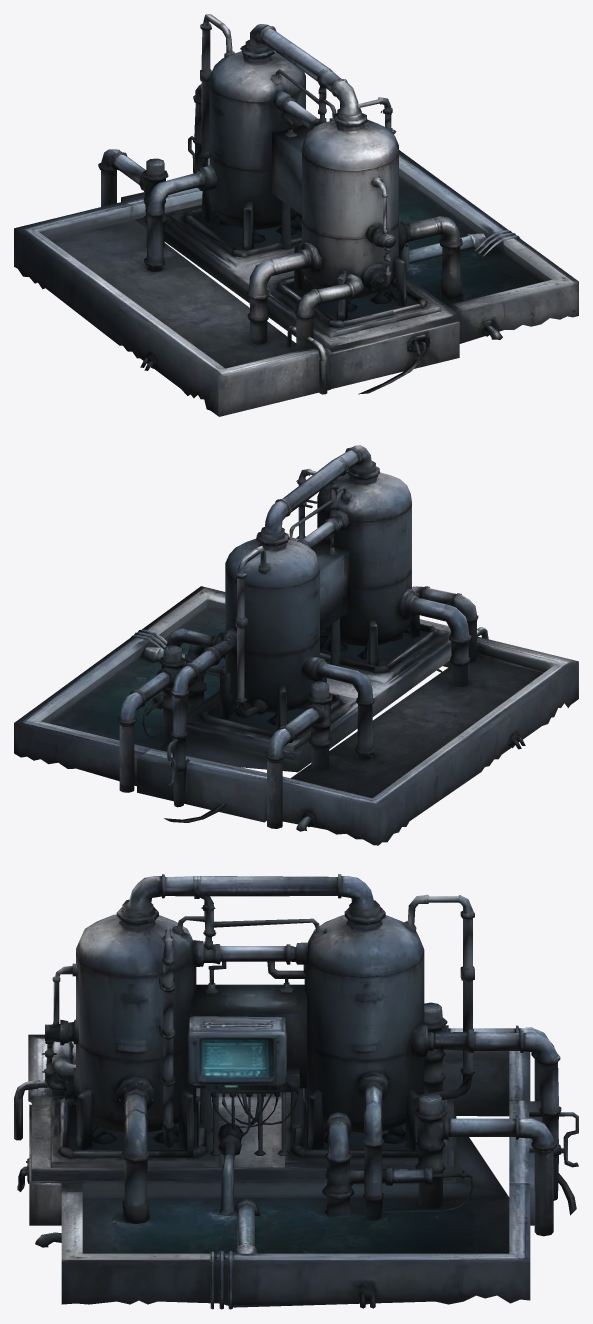
File: industrial_facility.glb
3 renders of one model, top to bottom at view 1: azimuth 30°, elevation 25°; view 2: azimuth 150°, elevation 25°; view 3: azimuth 270°, elevation 25°, orthographic. The views are drawn at different scales.
Visible parts, largest first — view 1: tripo_node_018d52a2-aba8-4335-8269-bb44e30aa540; view 2: tripo_node_018d52a2-aba8-4335-8269-bb44e30aa540; view 3: tripo_node_018d52a2-aba8-4335-8269-bb44e30aa540.
Part boxes in pixels (x1,y1,x2,y2): tripo_node_018d52a2-aba8-4335-8269-bb44e30aa540: [14, 14, 578, 416]; tripo_node_018d52a2-aba8-4335-8269-bb44e30aa540: [14, 445, 578, 845]; tripo_node_018d52a2-aba8-4335-8269-bb44e30aa540: [14, 874, 578, 1309].
Bounding box in the file's own units: 5.47 × 3.5 × 5.54.
Materials: 1 (1 with a texture image).
